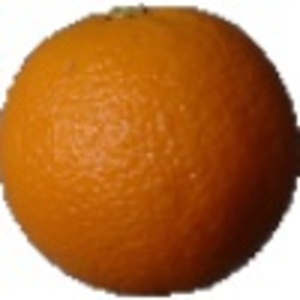laranja: (4, 2, 299, 297)
